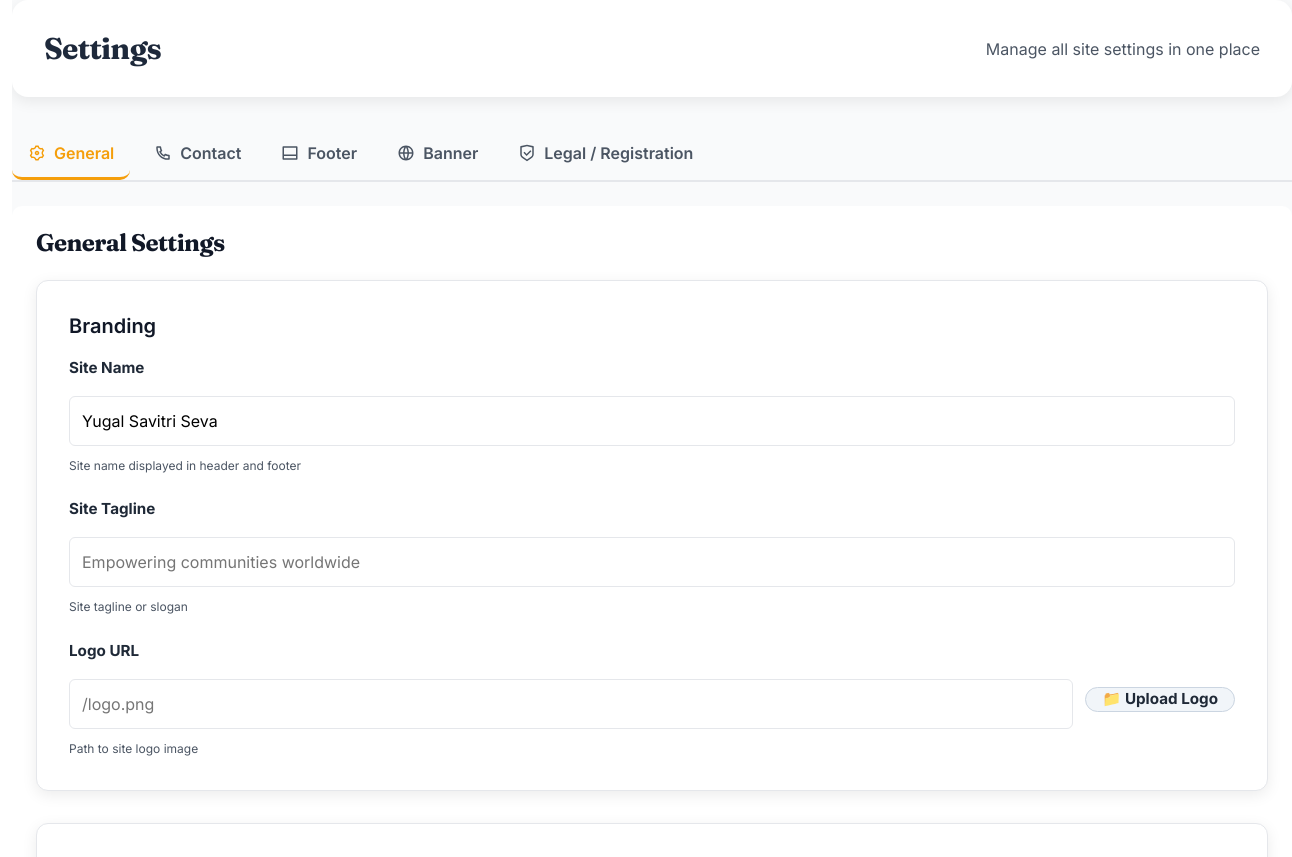
Test case: AdminSettingsConsolidated › switches to Footer tab and shows footer form
Expected: the heading "General Settings" is shown, x1=36 y1=228 x2=225 y2=257
What coordinates should you click on to do the following:
click the button with test id "settings-tab-footer"
I would click on:
 (319, 154)
Its box is x1=266 y1=129 x2=373 y2=180.
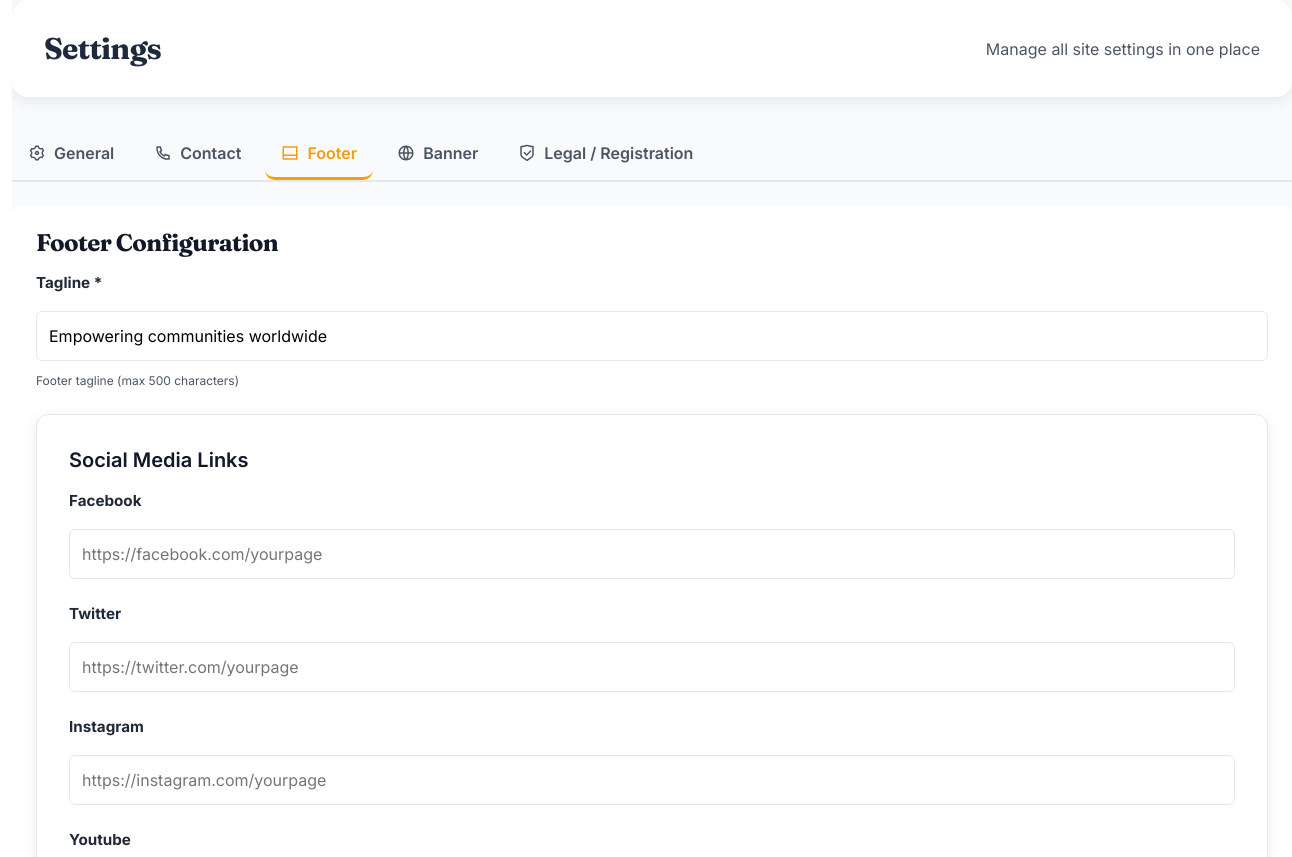
Now the heading "Footer Configuration" is shown, box x1=36 y1=228 x2=278 y2=257
